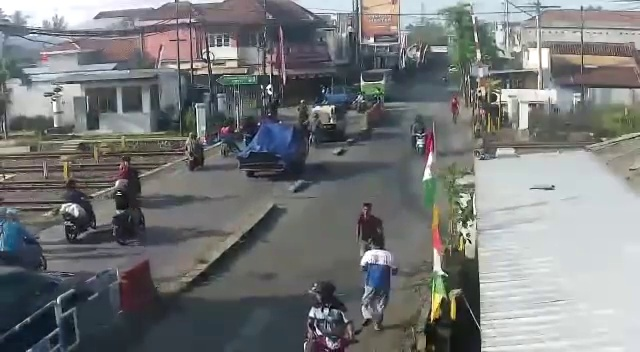car: (239, 120, 306, 182), (308, 102, 346, 141), (361, 70, 394, 105)
motorbike: (303, 279, 356, 352), (1, 205, 48, 278), (112, 176, 148, 251), (62, 178, 97, 245), (118, 155, 142, 201), (218, 115, 238, 161), (184, 132, 206, 172), (410, 110, 428, 154), (241, 114, 257, 151), (308, 112, 323, 148), (298, 99, 310, 130)
